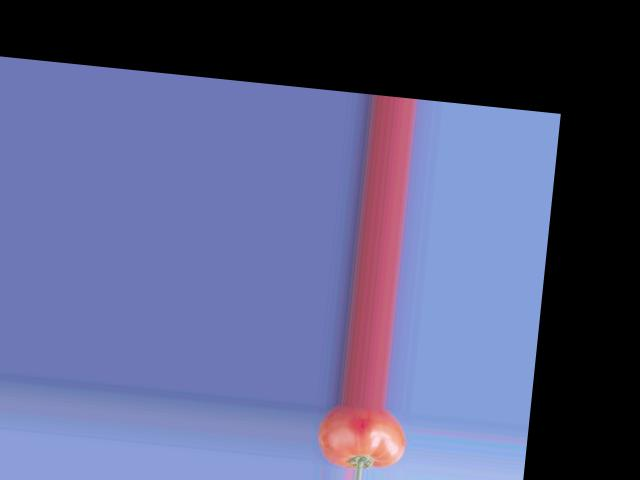tomato: (314, 400, 408, 474)
